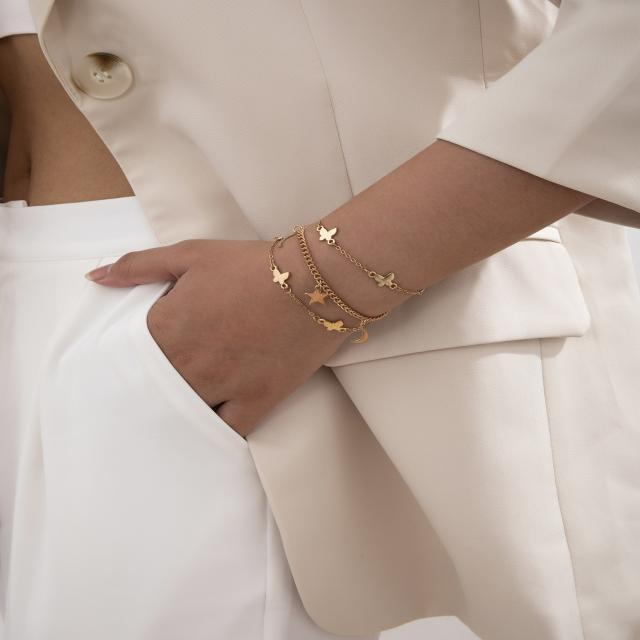Nail: (84, 263, 112, 283)
